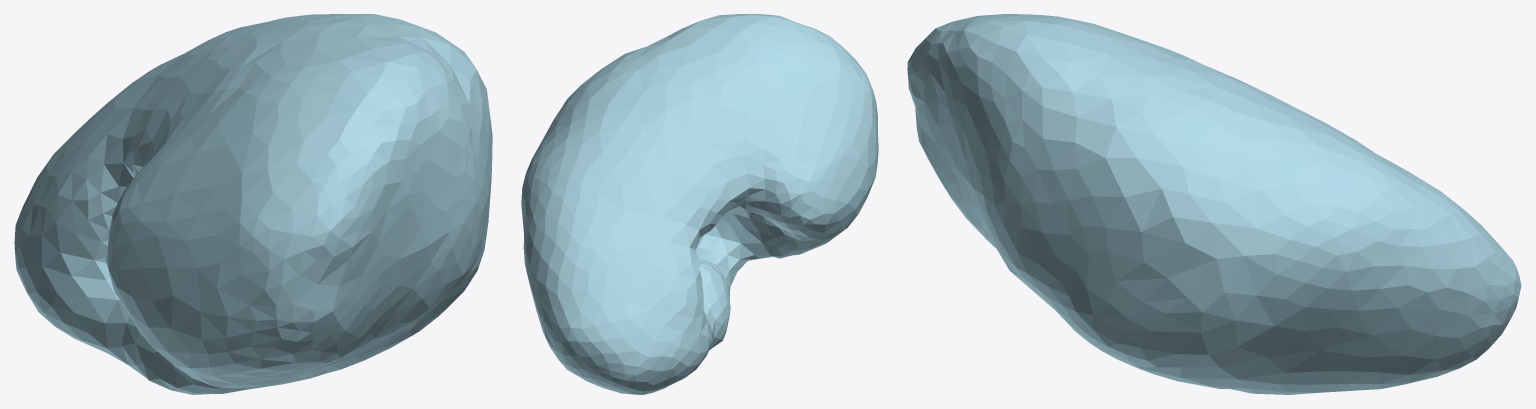
The model's file is leftkidney.obj.
3 views of the same model, side by side, from view 1: azimuth 30°, elevation 25°; view 2: azimuth 150°, elevation 25°; view 3: azimuth 270°, elevation 25° (orthographic). The views are drawn at different scales.
Visible parts, largest first — view 1: grp1; view 2: grp1; view 3: grp1.
Part boxes in pixels (x1=…): grp1: x1=14, y1=14, x2=492, y2=394; grp1: x1=521, y1=14, x2=878, y2=394; grp1: x1=907, y1=14, x2=1521, y2=394.
Bounding box in the file's own units: 65.19 × 63.98 × 98.15.
